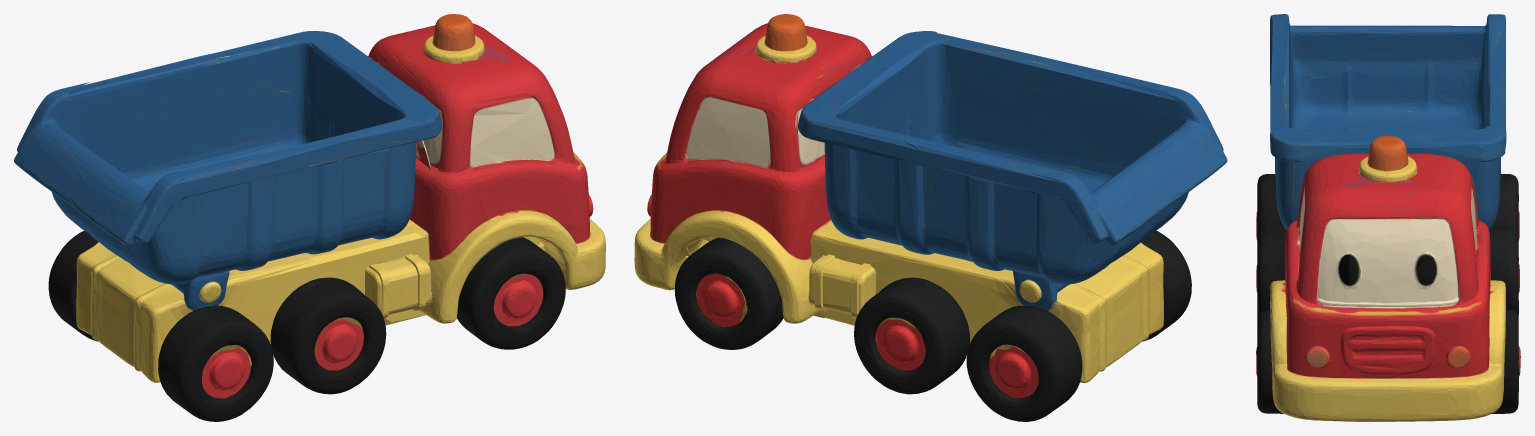
File: dumptruck_v1.glb
3 renders of one model, left to right at view 1: azimuth 30°, elevation 25°; view 2: azimuth 150°, elevation 25°; view 3: azimuth 270°, elevation 25°, orthographic. The views are drawn at different scales.
Parts seen in each view (by area): view 1: tipper_mesh, body_mesh, cab_mesh, wheelR_mesh, wheelM_mesh, beacon_mesh, wheelF_mesh; view 2: tipper_mesh, body_mesh, cab_mesh, wheelR_mesh, wheelM_mesh, beacon_mesh, wheelF_mesh; view 3: cab_mesh, tipper_mesh, body_mesh, beacon_mesh, wheelF_mesh.
Part boxes in pixels (x1,y1,x2,y2): tipper_mesh: (14, 31, 442, 300); body_mesh: (48, 33, 605, 409); cab_mesh: (368, 14, 593, 276); wheelR_mesh: (61, 298, 271, 421); wheelM_mesh: (268, 307, 383, 394); beacon_mesh: (389, 25, 529, 115); wheelF_mesh: (488, 236, 565, 349); tipper_mesh: (798, 31, 1227, 300); body_mesh: (634, 33, 1191, 410); cab_mesh: (647, 14, 871, 279); wheelR_mesh: (970, 294, 1179, 421); wheelM_mesh: (855, 274, 976, 394); beacon_mesh: (710, 25, 853, 114); wheelF_mesh: (674, 261, 749, 349); cab_mesh: (1257, 135, 1518, 377); tipper_mesh: (1270, 14, 1506, 230); body_mesh: (1257, 142, 1518, 421); beacon_mesh: (1304, 144, 1472, 206); wheelF_mesh: (1256, 328, 1520, 413).
Bounding box in the file's own units: 3.4 × 1.85 × 1.65.
Materials: 1 (1 with a texture image).
